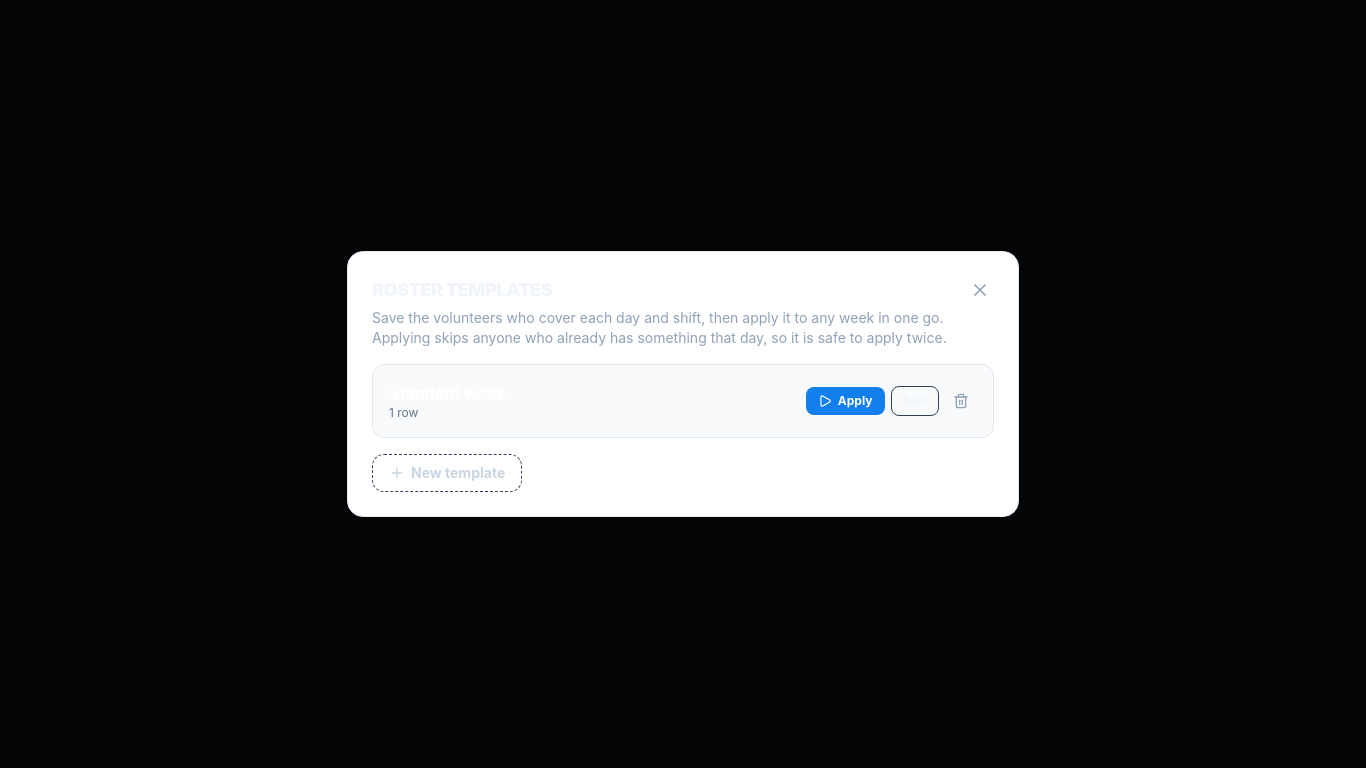
Test: RosterTemplatesModal › shows an error and keeps the template when delete fails
Step 1. Click the button named "Delete Standard week" → [961, 401], box [945, 385, 977, 417]
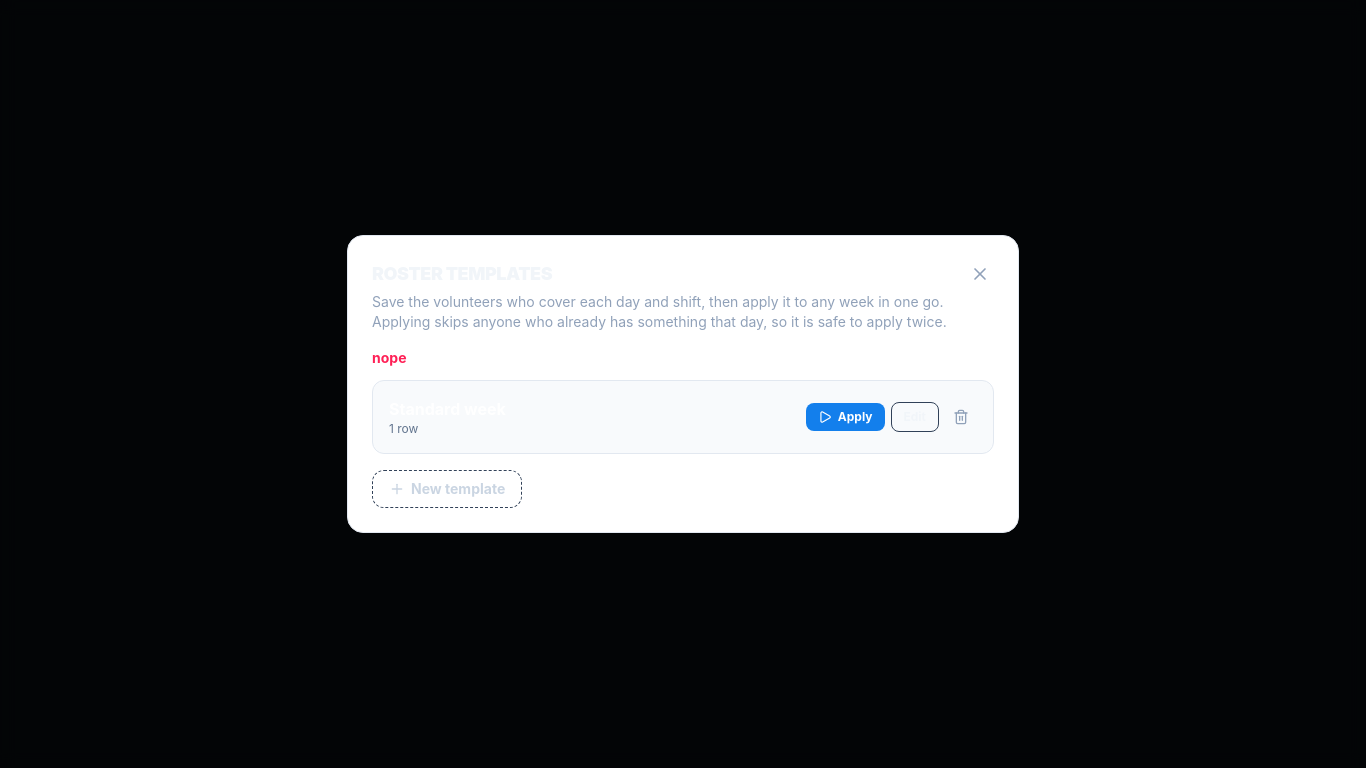
Expected: the text "nope" is shown, [372, 349, 406, 366]
